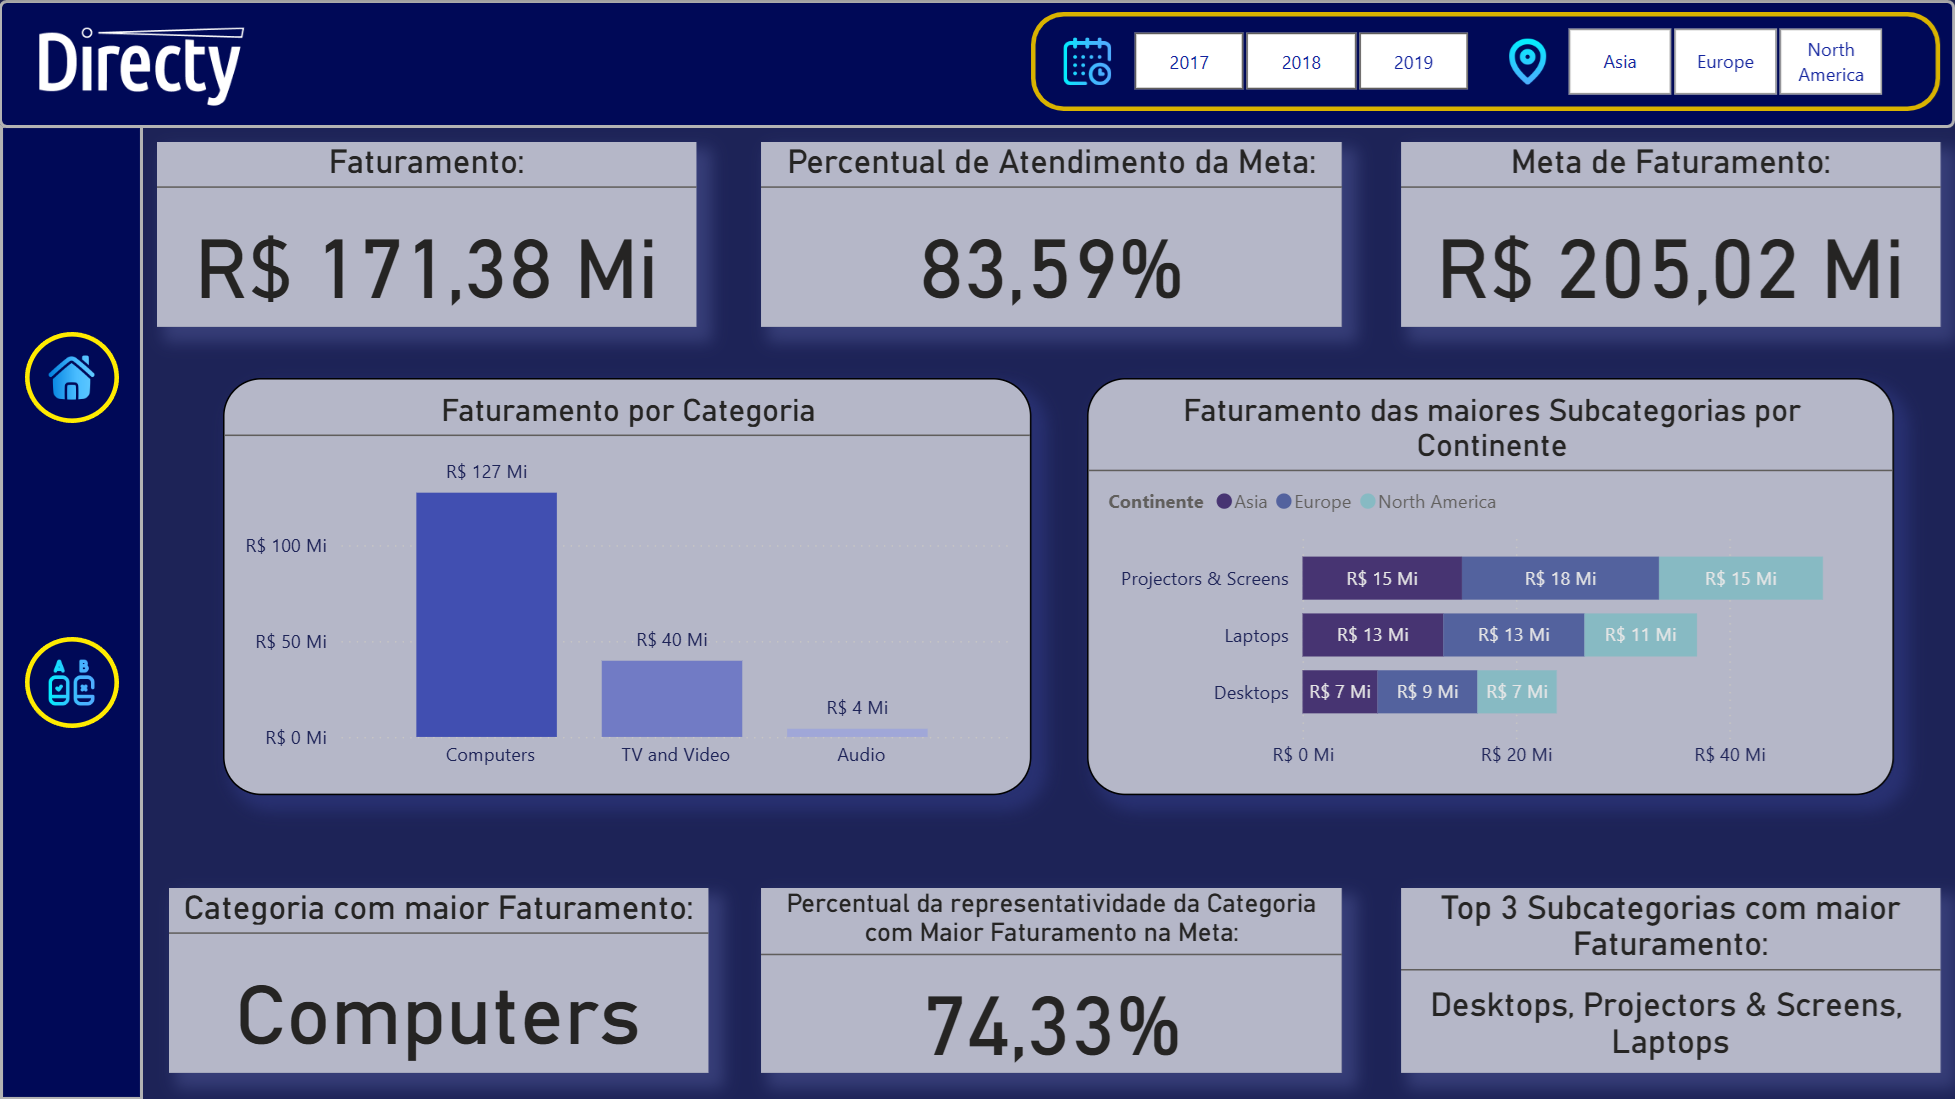

The page's visual inventory and layout, read from the dashboard file:
{"tool":"powerbi","page":{"name":"Início","canvas":[1280,720],"ordinal":0},"visuals":[{"type":"shape","box":[0.7,81.8,93.6,638],"z":0},{"type":"shape","box":[0,0,1280,83.8],"z":1000},{"type":"shape","box":[675.3,7.9,594.8,64.8],"z":2000},{"type":"image","box":[691.7,19.6,40.6,40.6],"z":3000},{"type":"image","box":[980.3,20.3,39.9,39.9],"z":4000},{"type":"slicer","fields":{"Values":["dCalendário.Ano"]},"box":[717.2,14.4,268.3,51],"z":5000},{"type":"slicer","fields":{"Values":["Localizacao.Continente"]},"box":[1001.2,11.8,255.2,56.9],"z":6000},{"type":"image","box":[14.4,13.1,157.7,60.9],"z":7000},{"type":"card","title":"Faturamento: ","fields":{"Values":["Medidas.Faturamento"]},"box":[103.4,92.9,352.7,121.1],"z":8000},{"type":"card","title":"Meta de Faturamento: ","fields":{"Values":["Medidas.Meta Total"]},"box":[917.5,92.9,352.7,121.1],"z":9000},{"type":"card","title":"Percentual de Atendimento da Meta:","fields":{"Values":["Medidas.% Meta"]},"box":[498.7,92.9,380.2,121.1],"z":10000},{"type":"columnChart","fields":{"Category":["Subcategoria.Categoria"],"Y":["Medidas.Faturamento"]},"box":[146.6,247.4,528.8,272.9],"z":11000},{"type":"card","title":"Categoria com maior Faturamento: ","fields":{"Values":["Exploratória.Maior Categoria"]},"box":[111.2,581.1,352.7,121.1],"z":12000},{"type":"card","title":"Percentual da representatividade da Categoria com Maior Faturamento na Meta:","fields":{"Values":["Medidas.% Maior Categoria"]},"box":[498.7,581.1,380.2,121.1],"z":13000},{"type":"card","title":"Top 3 Subcategorias com maior Faturamento: ","fields":{"Values":["Medidas.Top 3 Subcategorias"]},"box":[917.5,581.1,352.7,121.1],"z":14000},{"type":"barChart","title":"Faturamento das maiores Subcategorias por Continente","fields":{"Y":["Medidas.Faturamento"],"Series":["Localizacao.Continente"],"Category":["Subcategoria.Subcategoria"]},"box":[712,247.4,528.1,272.9],"z":15000},{"type":"shape","box":[17,217.3,61.5,59.6],"z":16000},{"type":"shape","box":[17,416.9,61.5,59.6],"z":17000},{"type":"image","box":[27.5,227.1,39.9,39.9],"z":17001},{"type":"image","box":[27.5,426.7,39.9,39.9],"z":17002},{"type":"actionButton","box":[17,215.3,61.5,62.8],"z":17003},{"type":"actionButton","box":[17,414.2,61.5,62.8],"z":17004}]}

Visuals, with their boxes in screenshot pixels (x1, y1, x2, y2), scaled from the page's 1280x720 canvas onto the 1955x1099 screenshot:
shape: bbox=(1, 125, 144, 1098)
shape: bbox=(0, 0, 1954, 128)
shape: bbox=(1031, 12, 1940, 111)
image: bbox=(1056, 30, 1118, 92)
image: bbox=(1497, 31, 1558, 92)
slicer - dCalendário.Ano: bbox=(1095, 22, 1505, 100)
slicer - Localizacao.Continente: bbox=(1529, 18, 1919, 105)
image: bbox=(22, 20, 263, 113)
"Faturamento: " card: bbox=(158, 142, 697, 327)
"Meta de Faturamento: " card: bbox=(1401, 142, 1940, 327)
"Percentual de Atendimento da Meta:" card: bbox=(762, 142, 1342, 327)
columnChart - Subcategoria.Categoria x Medidas.Faturamento: bbox=(224, 378, 1032, 794)
"Categoria com maior Faturamento: " card: bbox=(170, 887, 709, 1072)
"Percentual da representatividade da Categoria com Maior Faturamento na Meta:" card: bbox=(762, 887, 1342, 1072)
"Top 3 Subcategorias com maior Faturamento: " card: bbox=(1401, 887, 1940, 1072)
"Faturamento das maiores Subcategorias por Continente" barChart: bbox=(1087, 378, 1894, 794)
shape: bbox=(26, 332, 120, 423)
shape: bbox=(26, 636, 120, 727)
image: bbox=(42, 347, 103, 408)
image: bbox=(42, 651, 103, 712)
actionButton: bbox=(26, 329, 120, 424)
actionButton: bbox=(26, 632, 120, 728)
